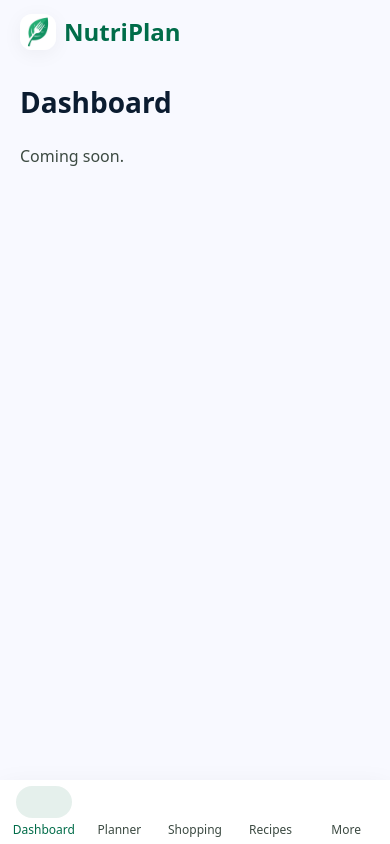
Test: AppShell › mobile bar shows four tabs and hides the rest behind "More"
Check: the heading "Dashboard" is shown, box top-left (20, 84), bottom-right (172, 120)
Click the button "More" at {"x": 346, "y": 812}, box top-left (310, 780), bottom-right (382, 843)
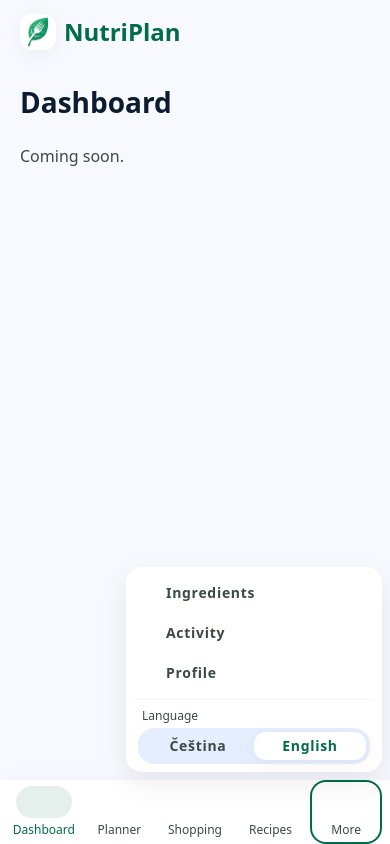
Check: the button "More" is expanded, box top-left (310, 780), bottom-right (382, 843)
Check: the link "Profile" is shown, box top-left (166, 663), bottom-right (217, 682)
